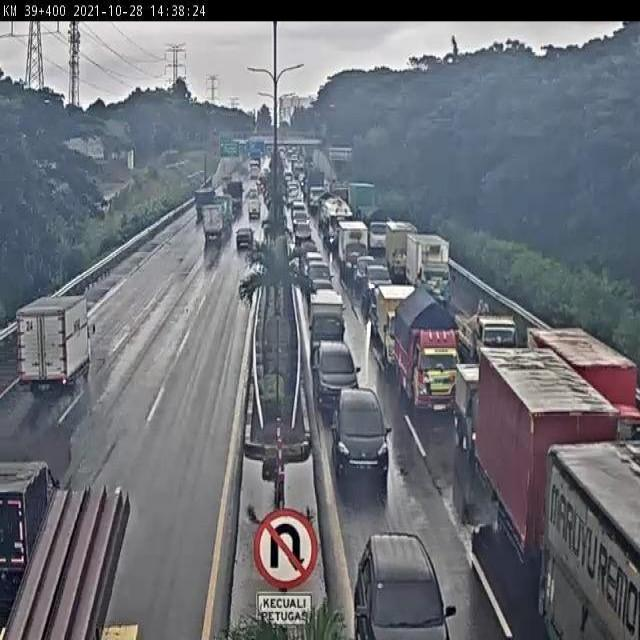big truck: (479, 344, 607, 561), (549, 428, 640, 640), (451, 288, 519, 353)
car: (356, 525, 447, 640), (336, 384, 399, 472), (310, 344, 361, 415), (366, 268, 390, 291), (235, 227, 255, 250)
small truck: (400, 290, 466, 430), (14, 294, 98, 398), (377, 286, 438, 366), (456, 361, 495, 455), (407, 233, 458, 300), (310, 288, 346, 356), (386, 221, 422, 283), (193, 184, 214, 224), (202, 205, 223, 238), (212, 195, 233, 225)
